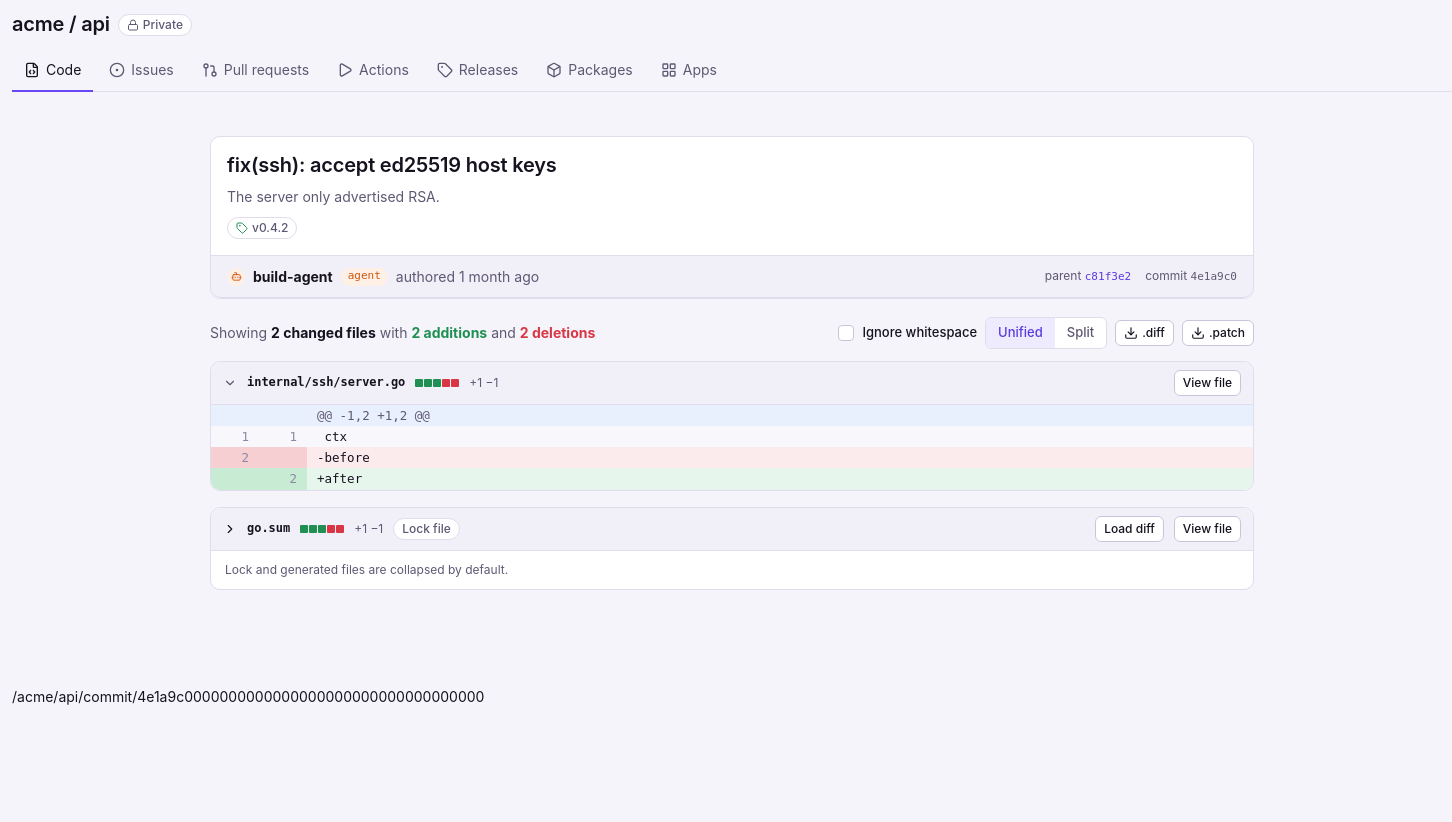
dettaglio commit (mockup 10) › Unified e Split
Expected: the table named "Unified diff of internal/ssh/server.go" is shown, [211,404,1253,490]
What coordinates should you click on to do the following:
click the button "Split"
I would click on:
 (1080, 333)
Its box is [1055,318,1106,348].
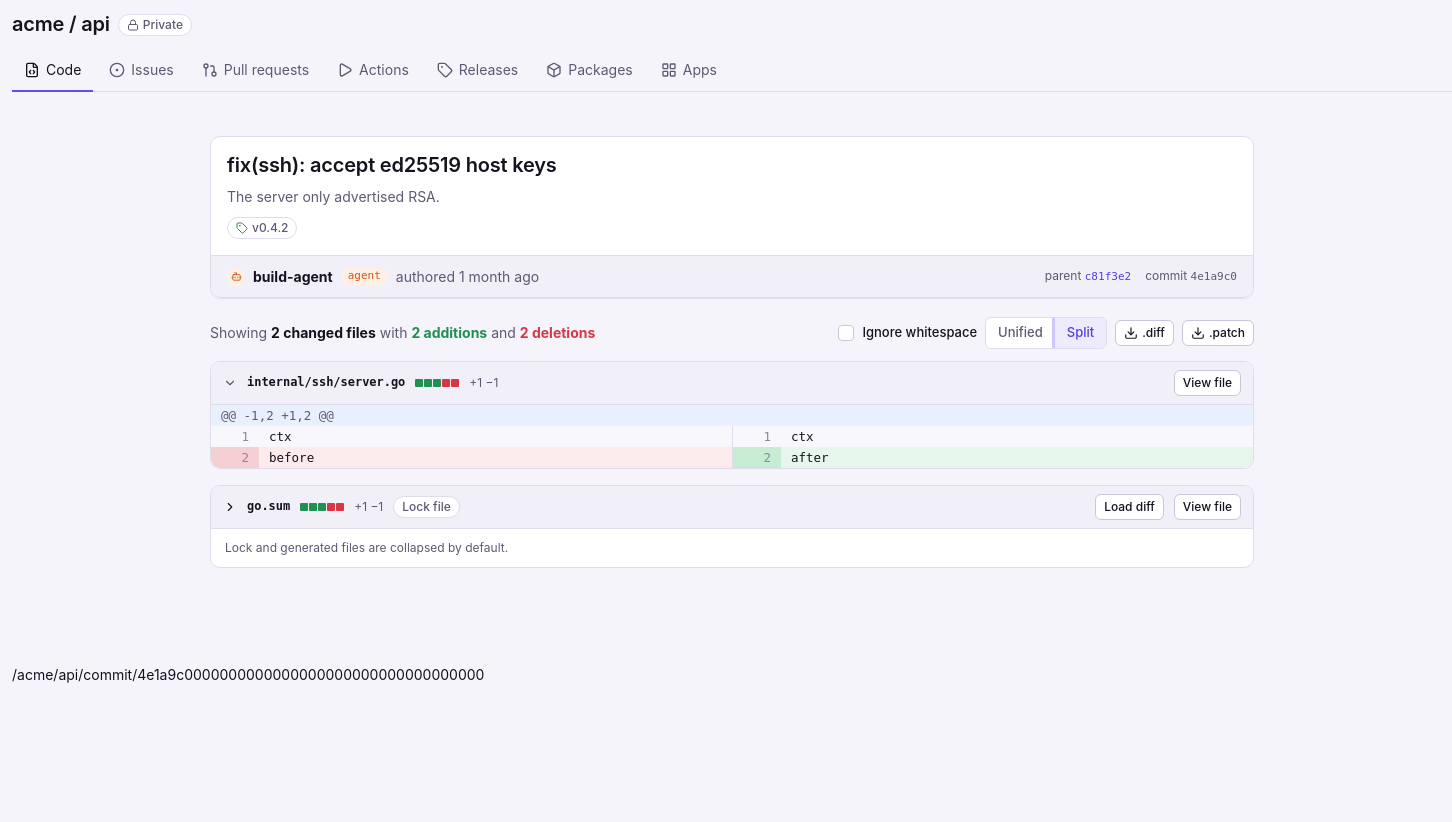
Expected: the table named "Split diff of internal/ssh/server.go" is shown, [211,404,1253,468]
